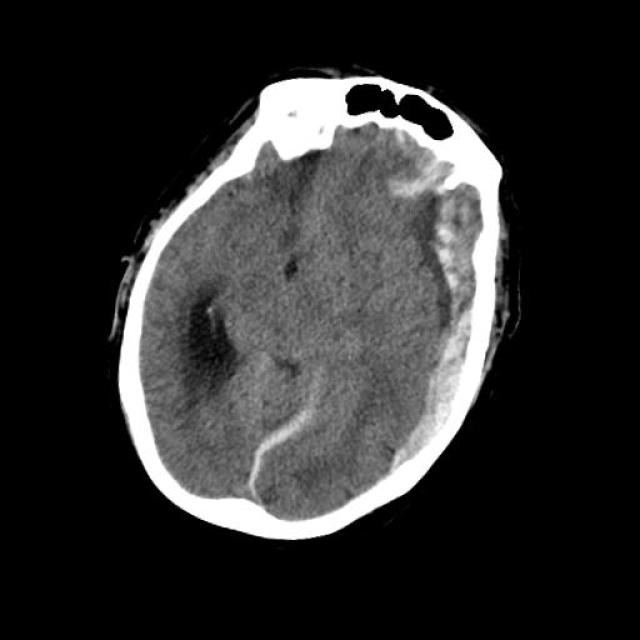Subdural: (348, 131, 534, 488), (205, 405, 339, 521)
